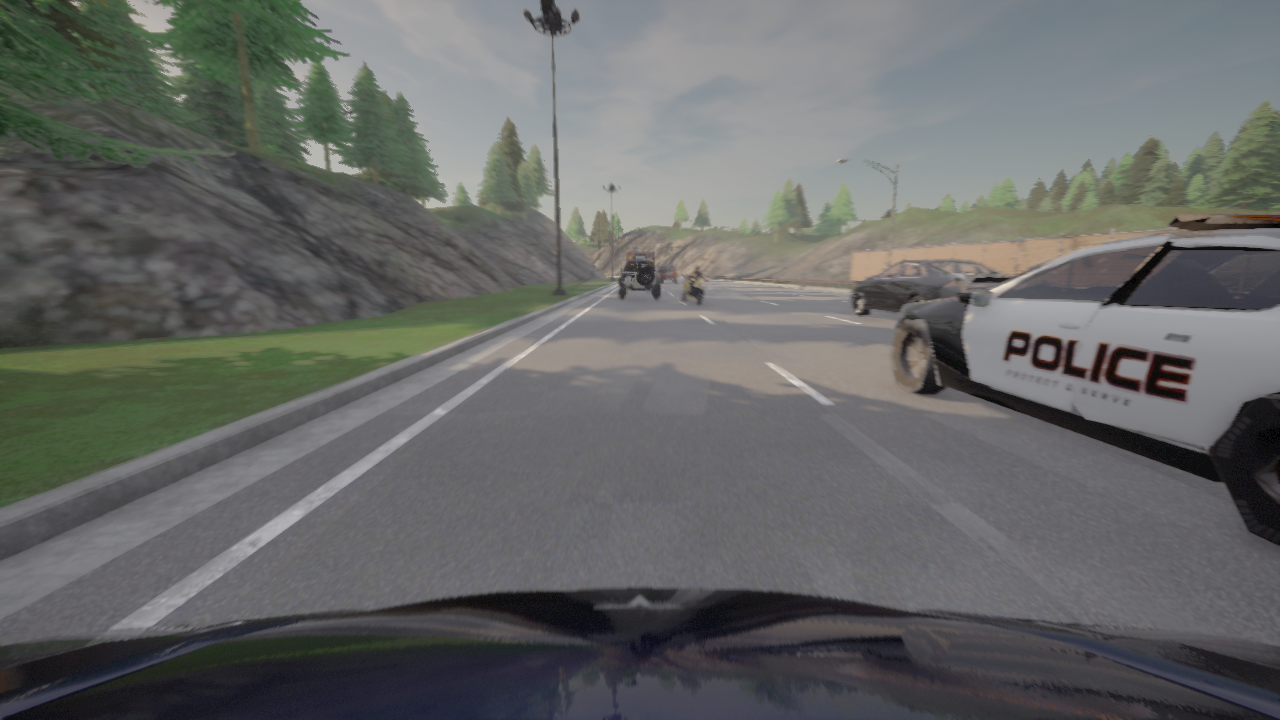cyclist: (0, 588, 1279, 719), (889, 213, 1279, 545), (852, 259, 1012, 315), (619, 259, 660, 297), (681, 274, 709, 304), (626, 247, 654, 266), (659, 266, 677, 282)
